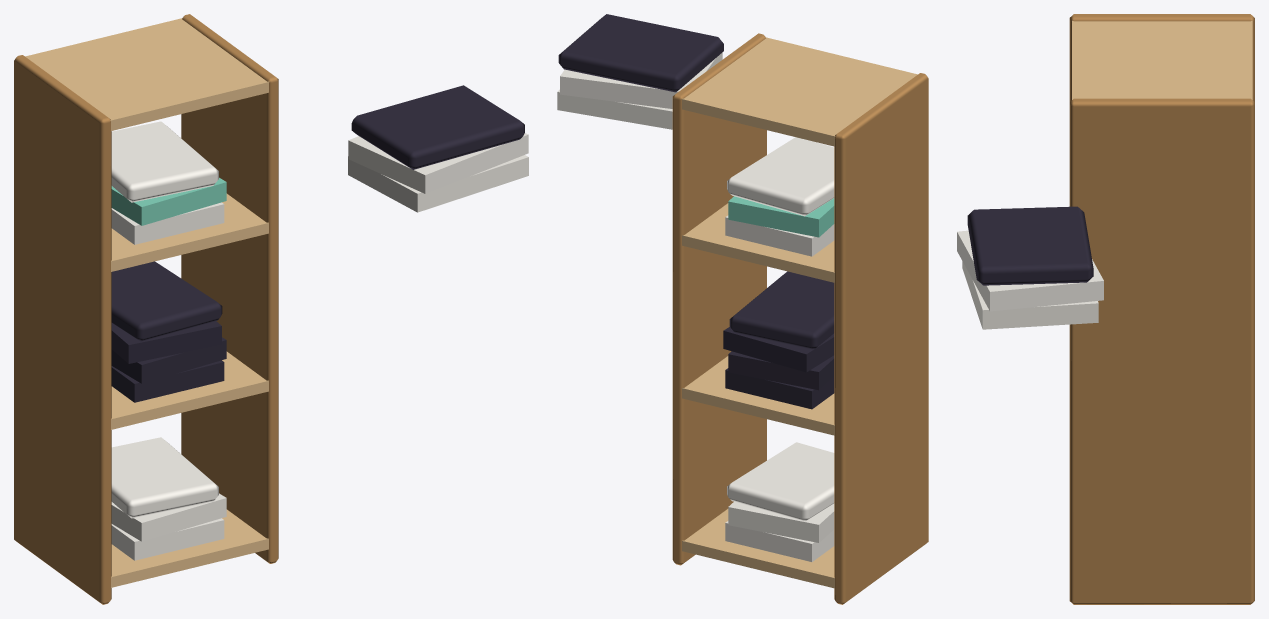
Rendered from station_buffer_ausstattung_2_1.glb.
3 renders of one model, left to right at view 1: azimuth 30°, elevation 25°; view 2: azimuth 150°, elevation 25°; view 3: azimuth 270°, elevation 25°, orthographic. The views are drawn at different scales.
Visible parts, largest first — view 1: station_buffer_ausstattung_2_1; view 2: station_buffer_ausstattung_2_1; view 3: station_buffer_ausstattung_2_1.
Part boxes in pixels (x1,y1,x2,y2): station_buffer_ausstattung_2_1: (14, 14, 528, 604); station_buffer_ausstattung_2_1: (557, 14, 928, 604); station_buffer_ausstattung_2_1: (957, 14, 1254, 604).
Size of the model in its own units: 0.9531 by 1.14 by 0.6107.
